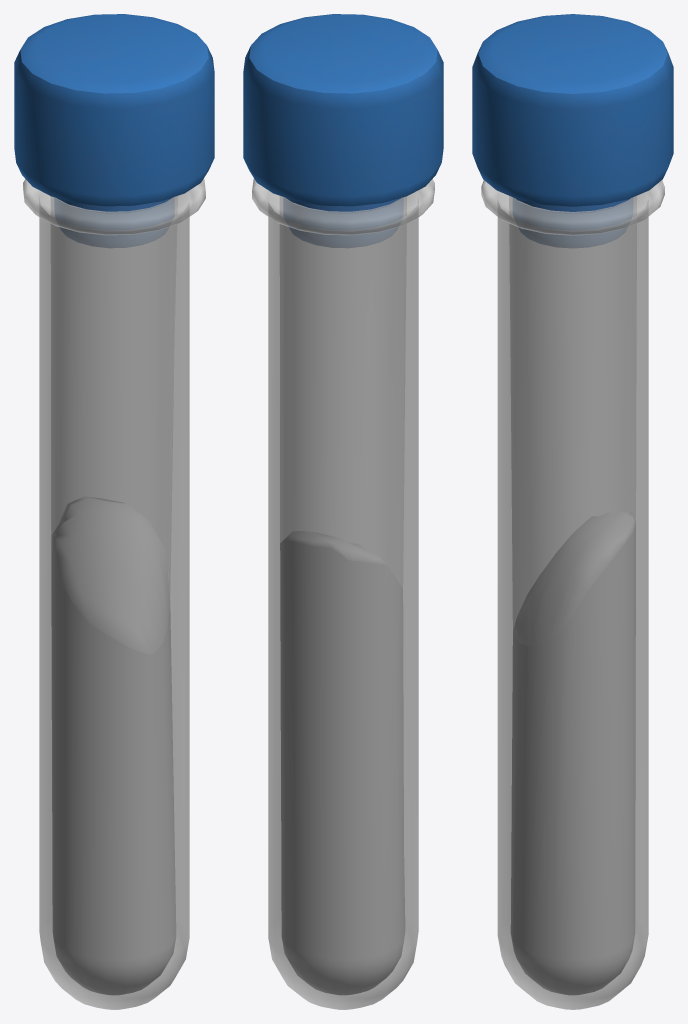
Rendered from SM_TSI.fbx.
3 views of the same model, side by side, from view 1: azimuth 30°, elevation 25°; view 2: azimuth 150°, elevation 25°; view 3: azimuth 270°, elevation 25° (orthographic).
Visible parts, largest first — view 1: polySurface44; view 2: polySurface44; view 3: polySurface44.
Part boxes in pixels (<box>): polySurface44: <box>14,14,214,1009</box>; polySurface44: <box>243,14,443,1009</box>; polySurface44: <box>472,14,673,1009</box>.
Size of the model in its own units: 2.96 by 15.49 by 2.96.
